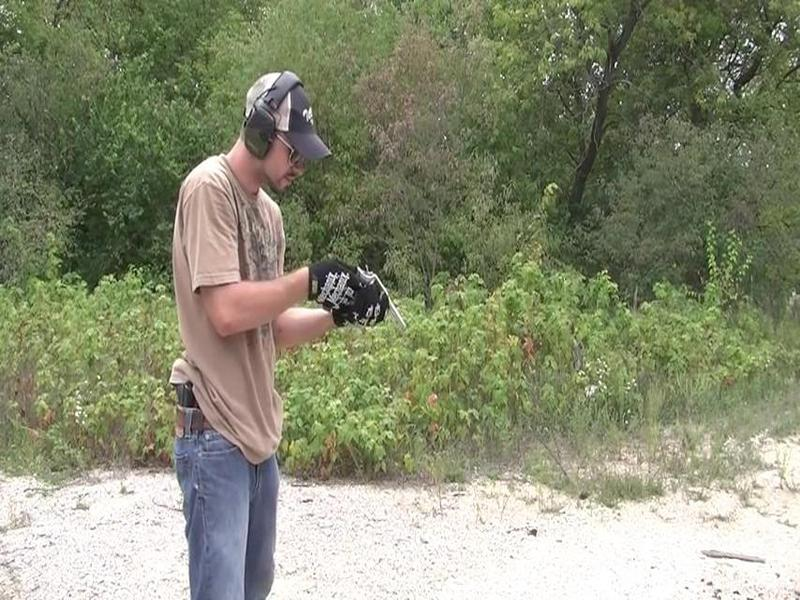Revolver: (335, 254, 435, 357)
